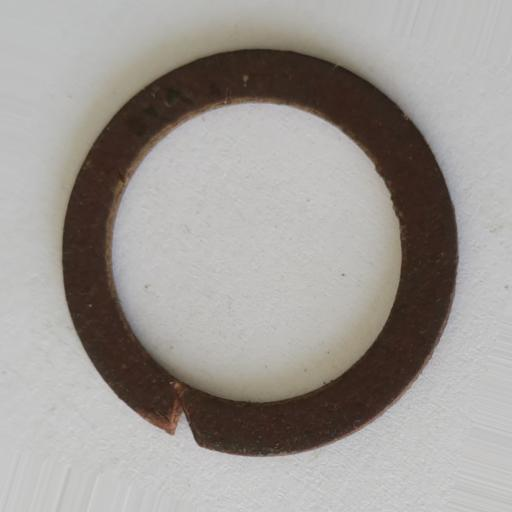defect: (169, 391, 203, 448)
